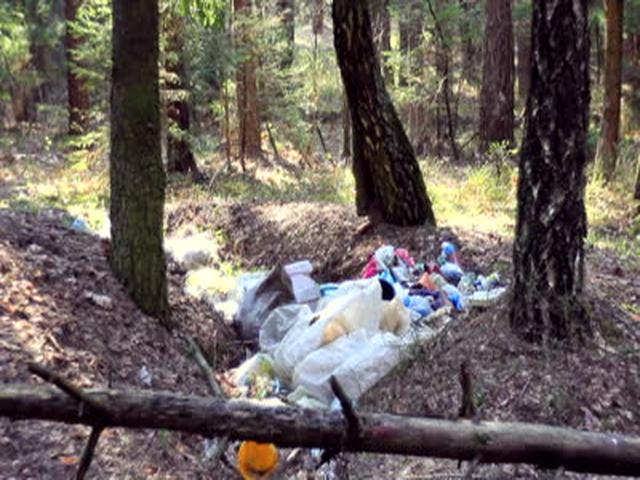garbage: (238, 267, 443, 349)
